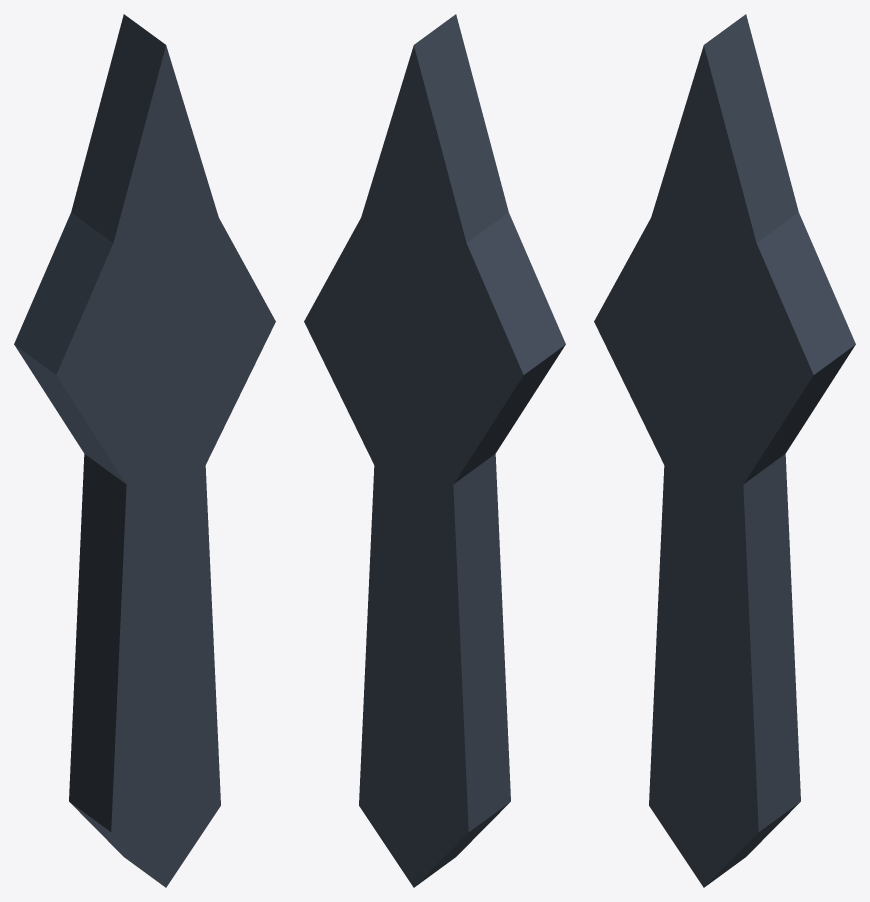
The model's file is clock_hand_hour.glb.
3 views of the same model, side by side, from view 1: azimuth 30°, elevation 25°; view 2: azimuth 150°, elevation 25°; view 3: azimuth 330°, elevation 25° (orthographic).
Parts seen in each view (by area): view 1: Ornate black iron hand; view 2: Ornate black iron hand; view 3: Ornate black iron hand.
Boxes of the visible parts, <box> form: Ornate black iron hand: <box>14,14,275,887</box>; Ornate black iron hand: <box>304,14,565,887</box>; Ornate black iron hand: <box>594,14,855,887</box>.
Bounding box in the file's own units: 0.06 × 0.22 × 0.02.
